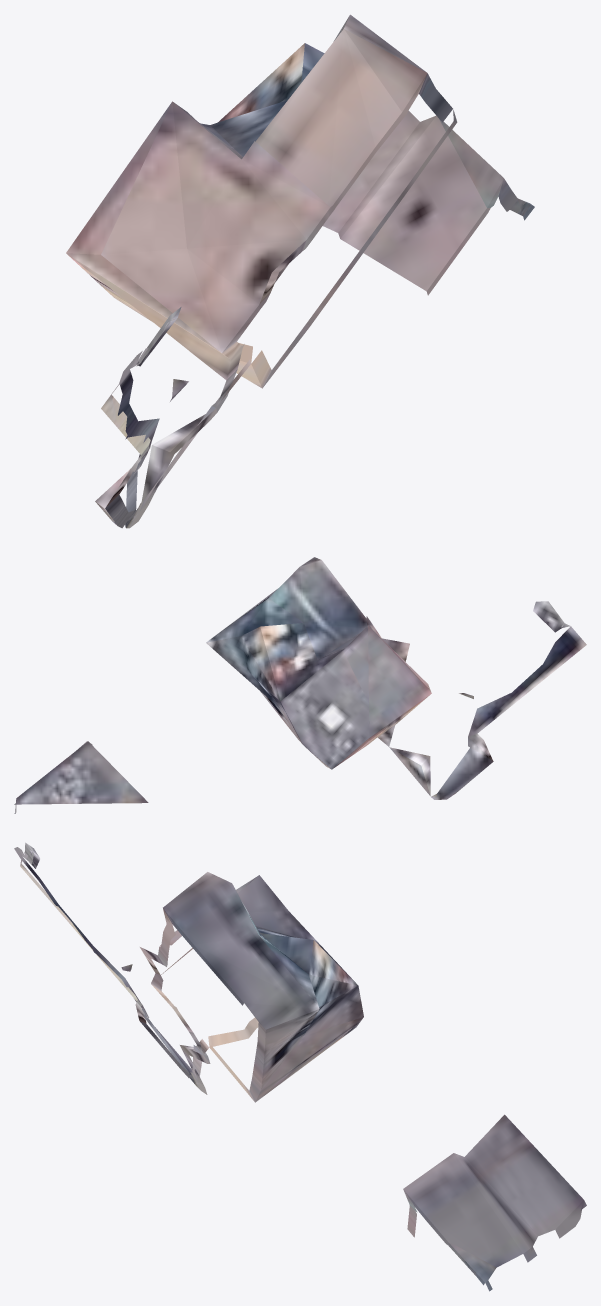
The picture shows the model from 3 angles, top to bottom: view 1: azimuth 30°, elevation 25°; view 2: azimuth 150°, elevation 25°; view 3: azimuth 270°, elevation 25°; orthographic projection. The views are drawn at different scales.
Bounding box in the file's own units: 22.35 × 12.1 × 21.49.
Materials: 1 (1 with a texture image).
